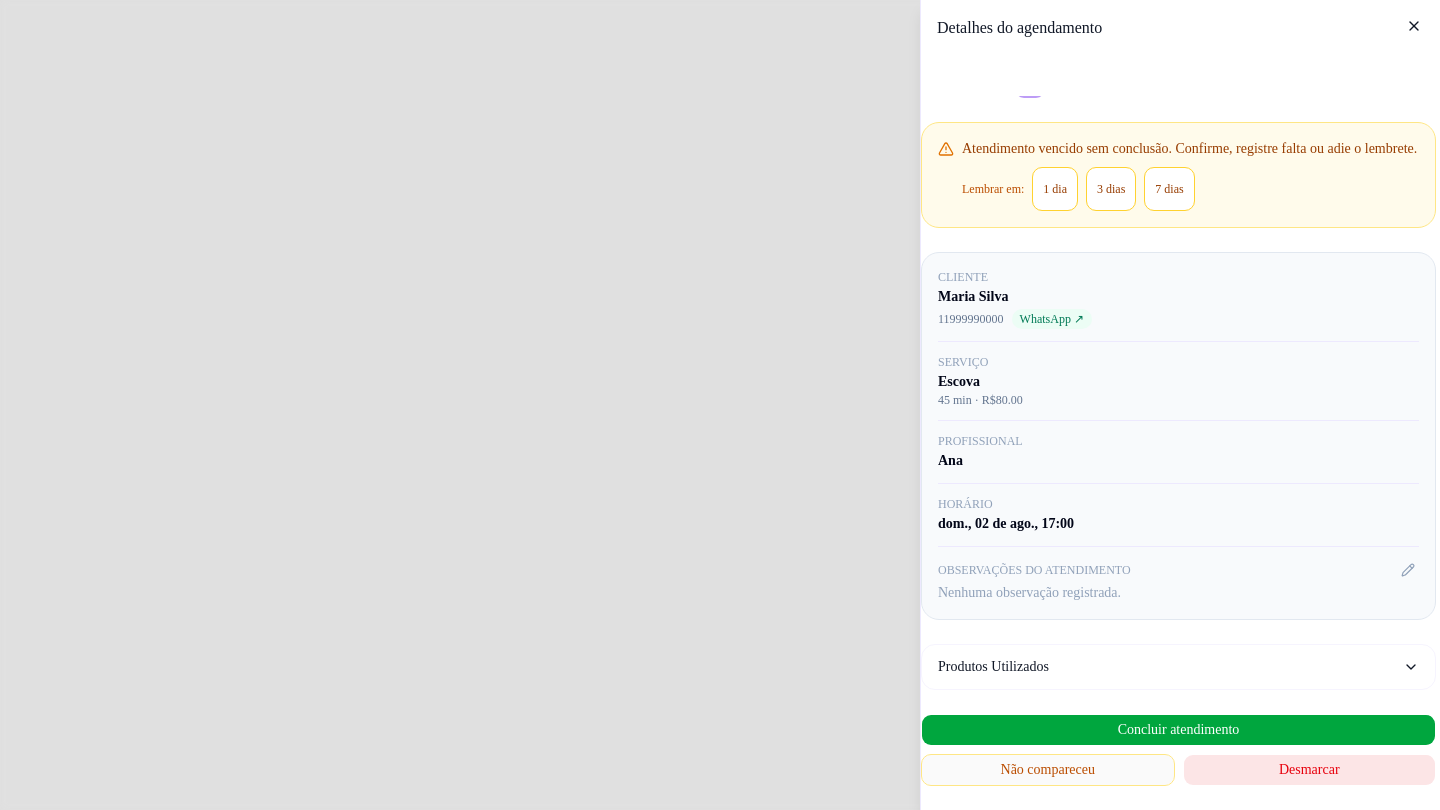
Scenario: no-show no drawer › a confirmação avisa que o cliente será notificado e mostra o texto
(page scrolled)
Click the button "Não compareceu" at (1048, 770), box [921,754,1174,786]
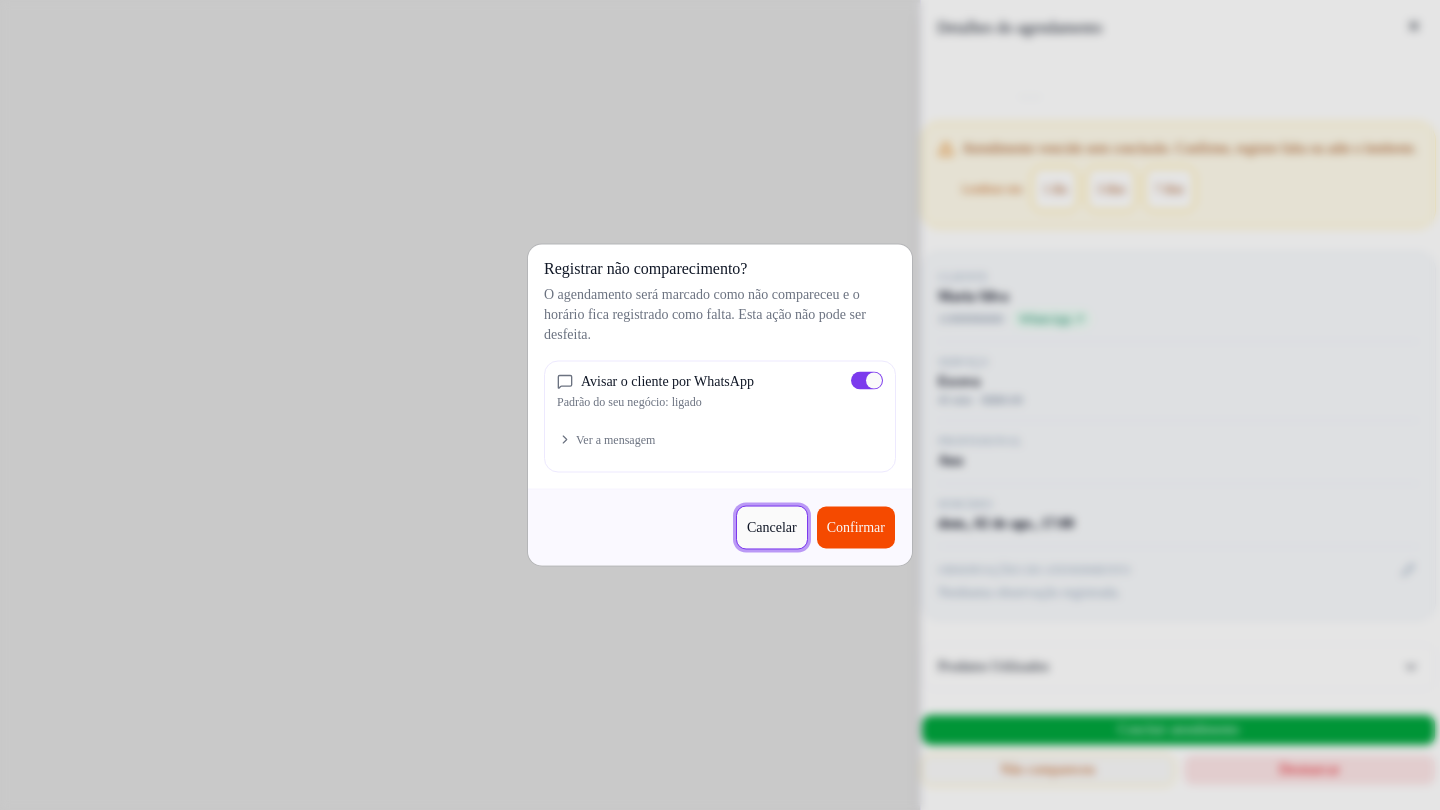
Check: the switch is shown, box [851,372,883,390]
Click the button "Ver a mensagem" at (607, 440), box [549,418,664,462]
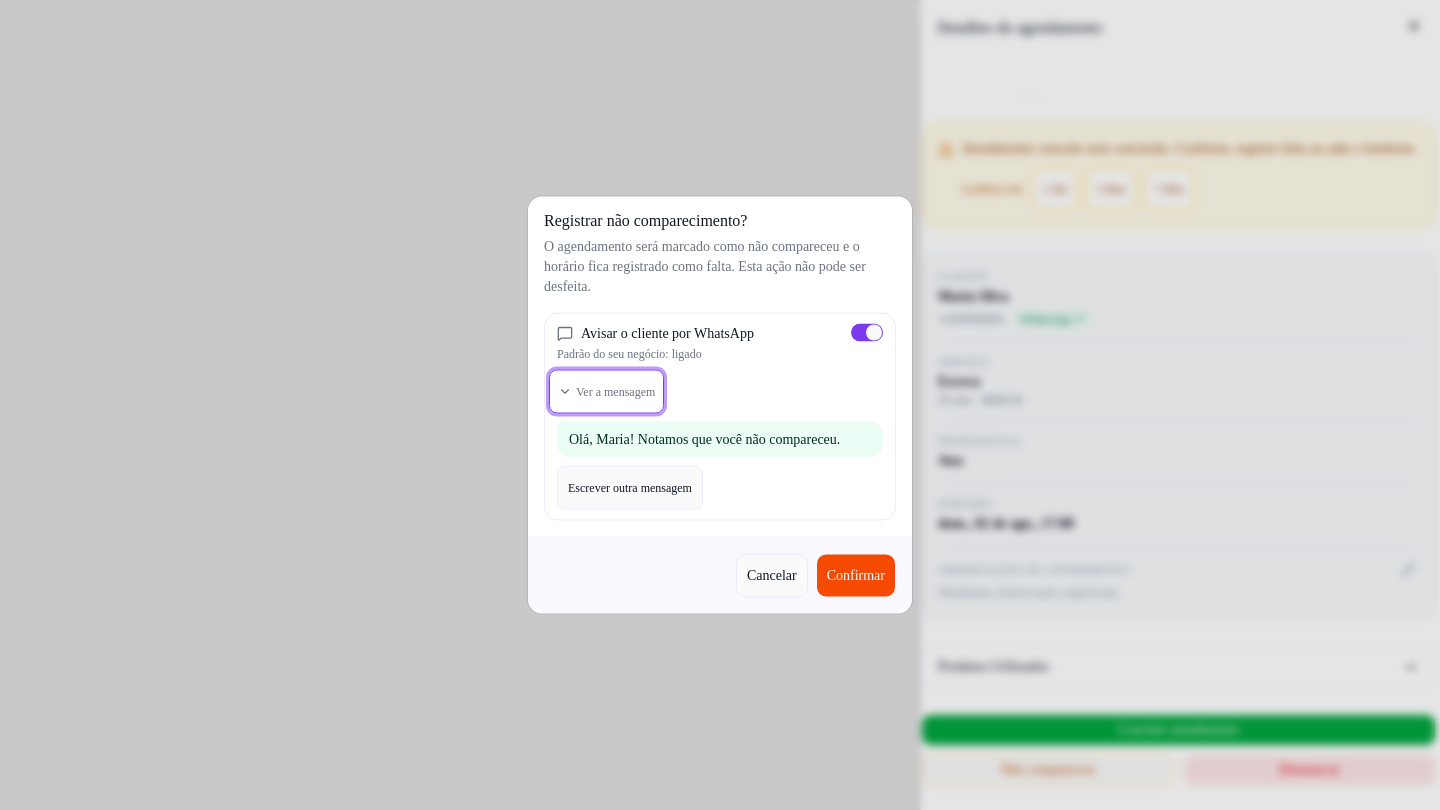
Check: the text "Olá, Maria! Notamos que você não compareceu." is shown, box [557,422,883,458]
